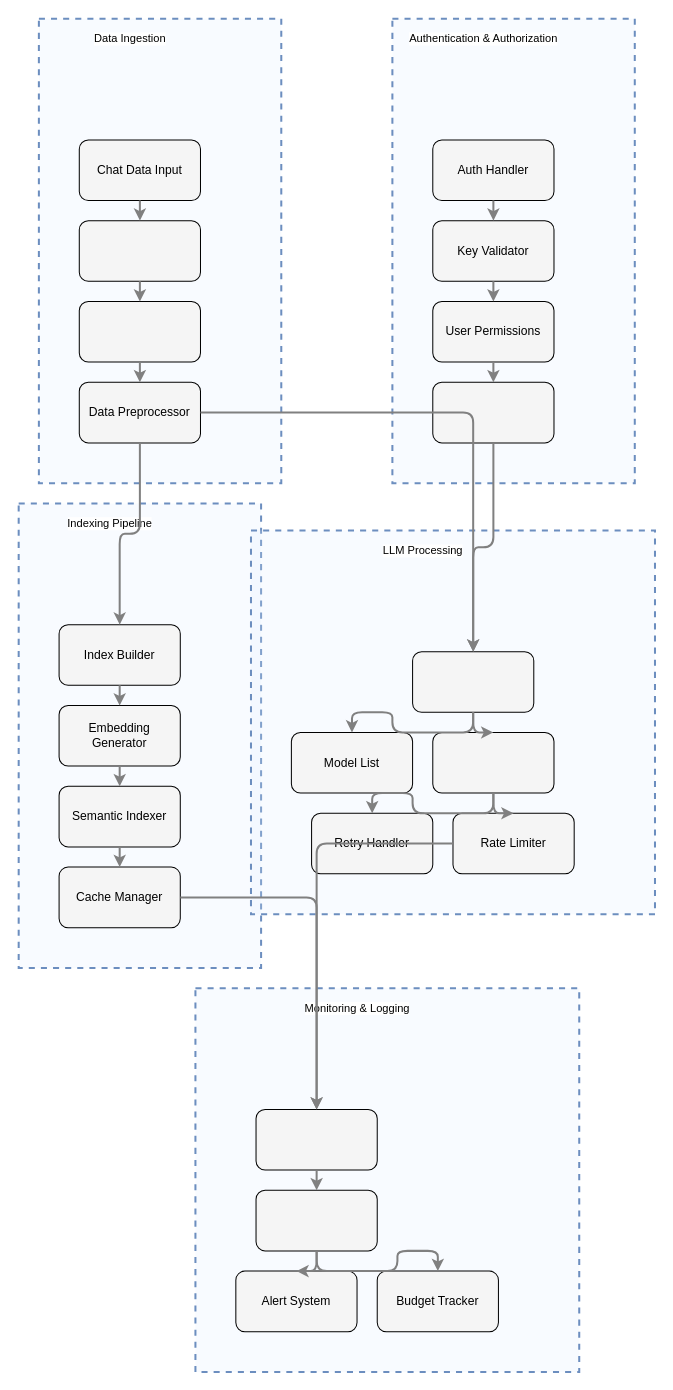
Image size: 673x1390. Some labels were removed from this diagram. The shapes that lost their labels are listed below. From the top down, each one's centre as x and y in pixels, then its label:
pixel 139 250: Input Validator
pixel 139 331: File Parser
pixel 493 412: Team Access
pixel 473 681: LLM Router
pixel 493 762: LLM Client
pixel 316 1139: Proxy Logger
pixel 316 1220: Usage Metrics
